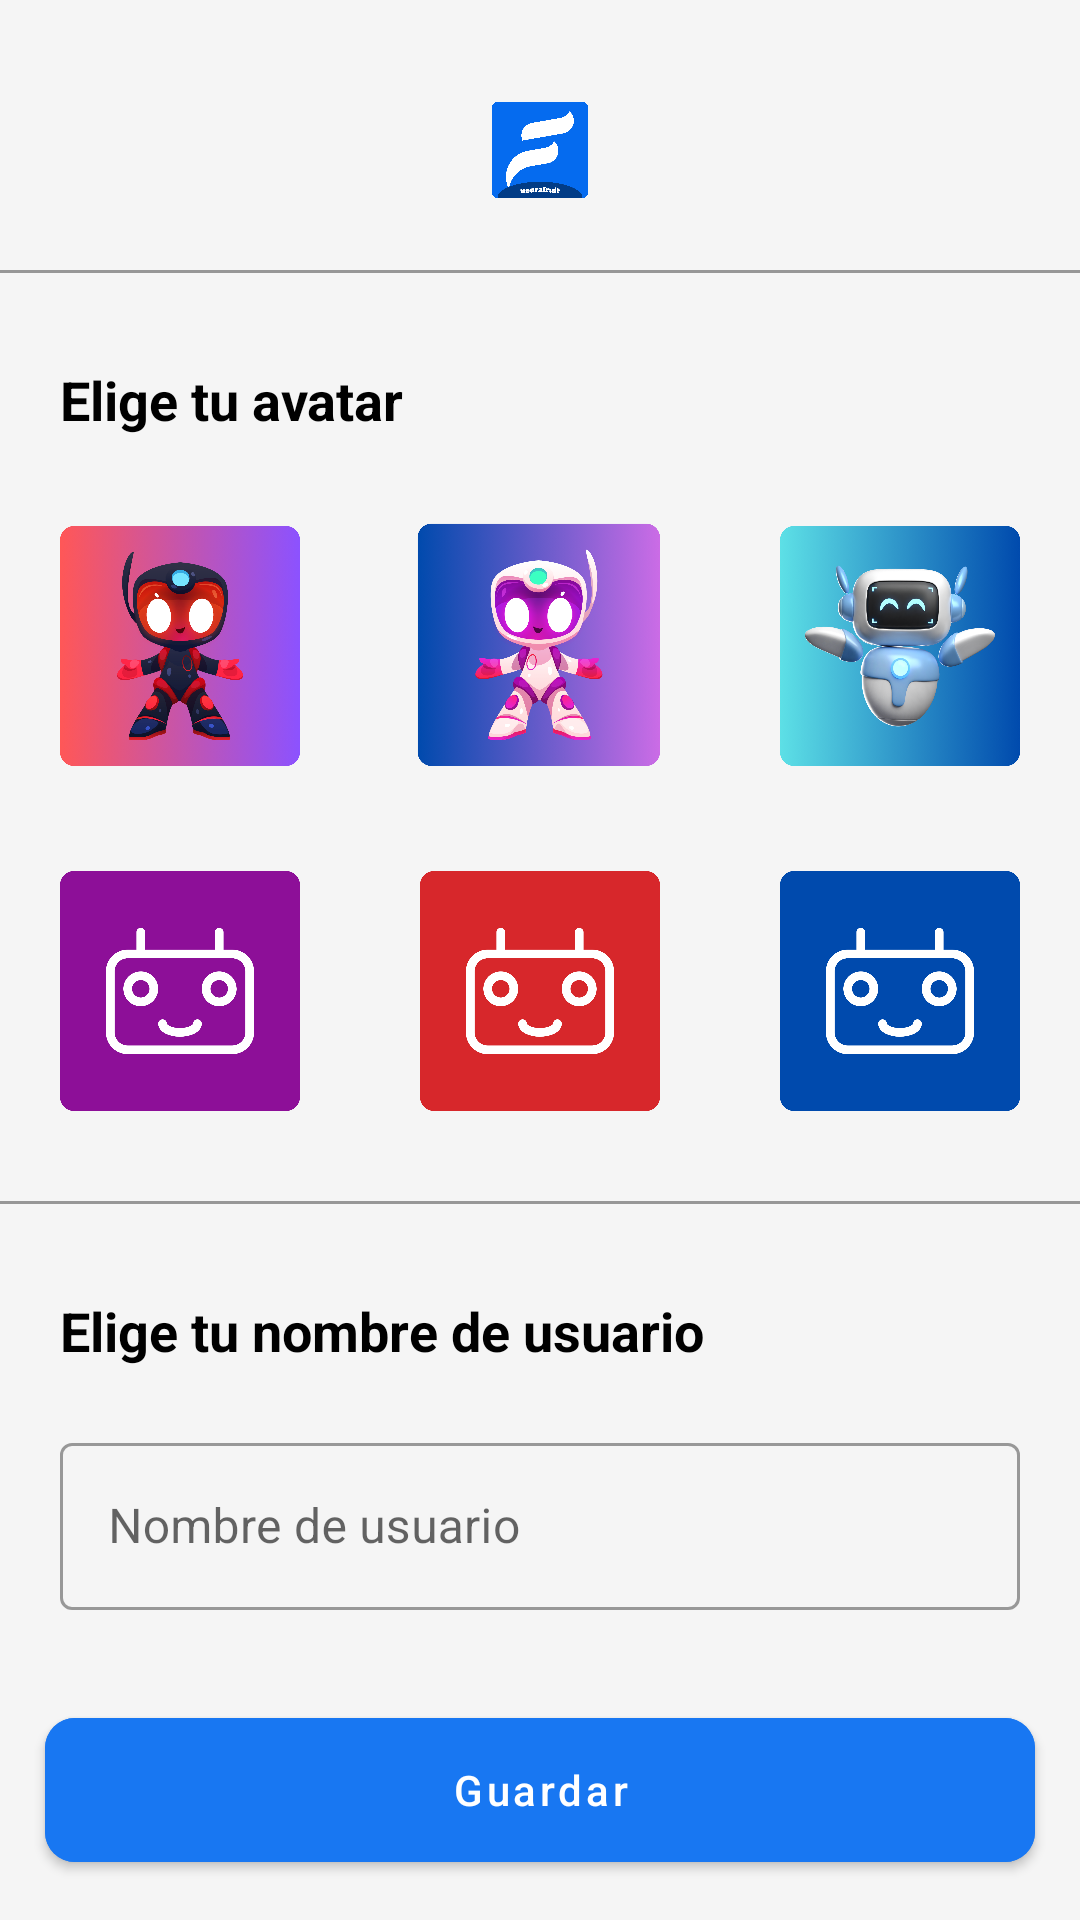

Where icons sit on this 1080 x 1920 app screen, as (x1, y1, x2, y2):
profile: (418, 524, 660, 766), (60, 526, 300, 766), (780, 526, 1020, 766), (60, 871, 300, 1111), (420, 871, 660, 1111), (780, 871, 1020, 1111)
